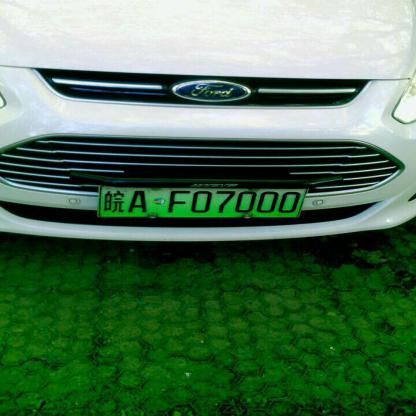lp: (100, 186, 307, 216)
